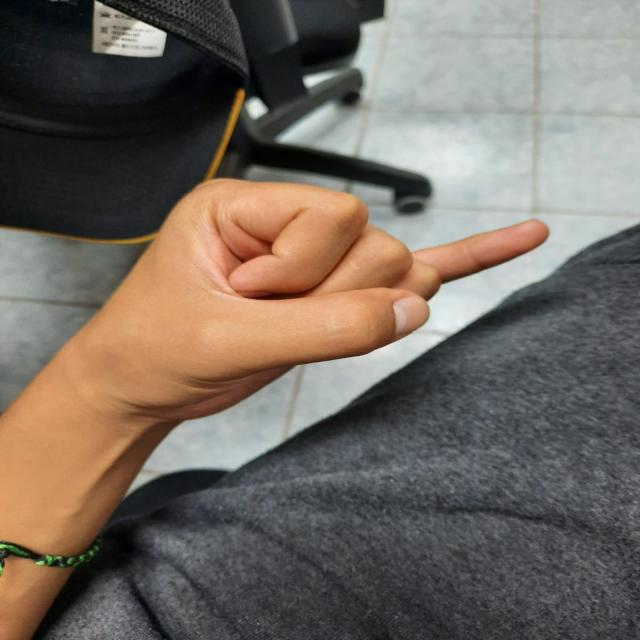Z: (57, 167, 567, 461)
